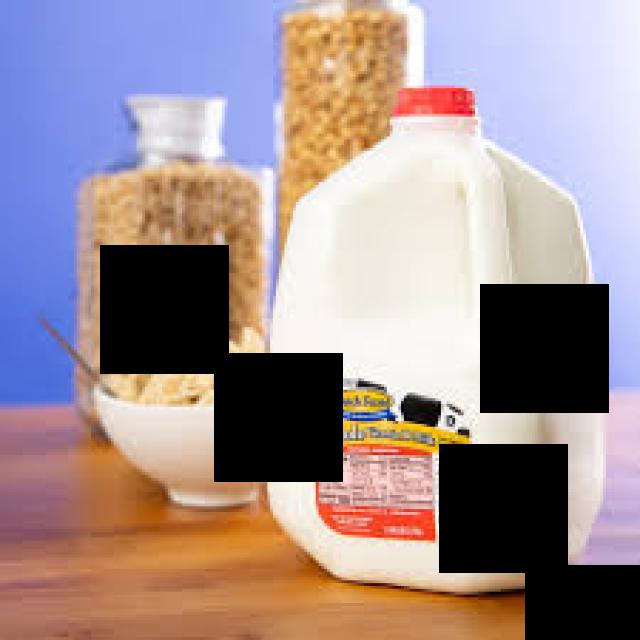milk: (264, 65, 610, 628)
